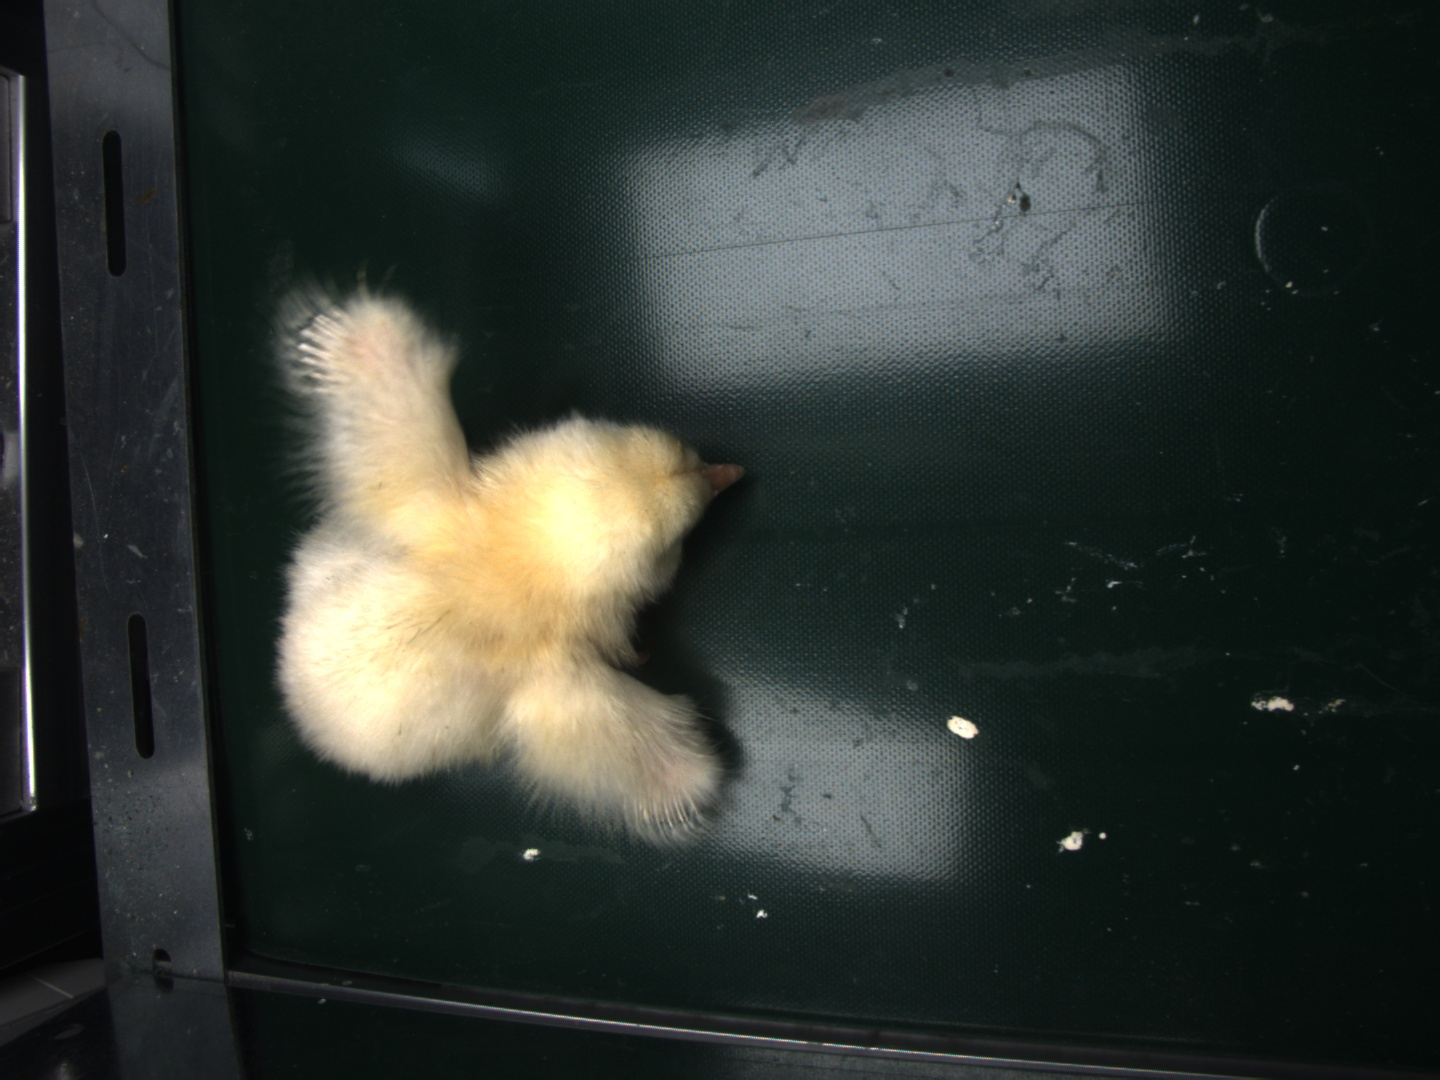male: (629, 792, 701, 832)
